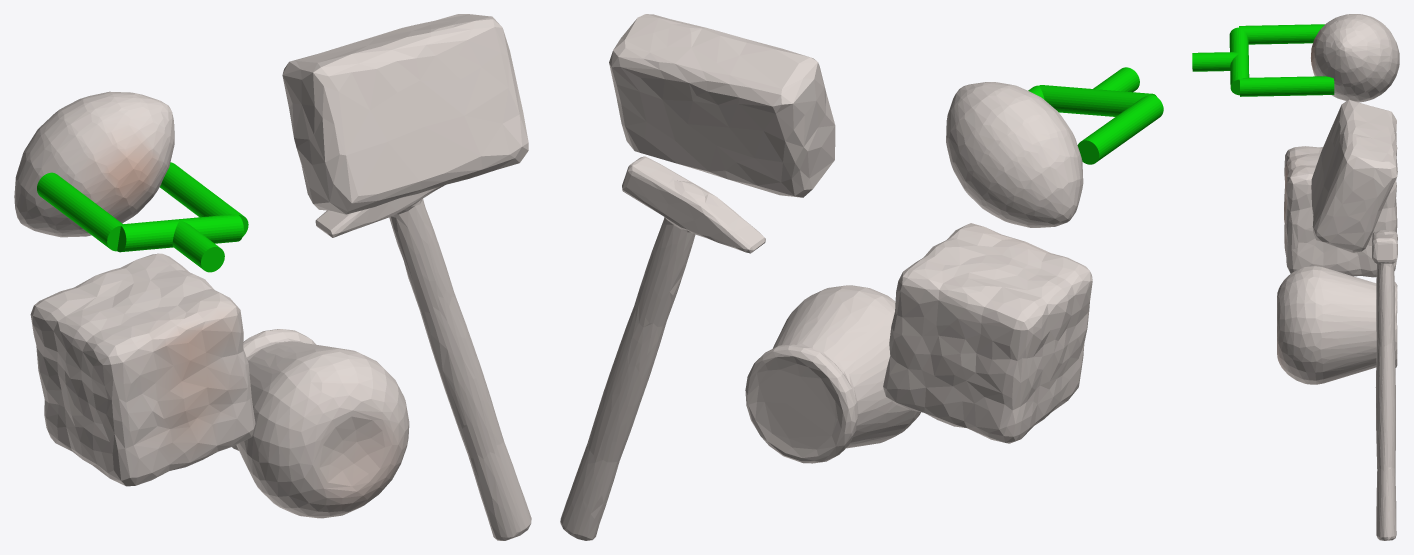
The model's file is round_000_trial_000.obj.
3 renders of one model, left to right at view 1: azimuth 30°, elevation 25°; view 2: azimuth 150°, elevation 25°; view 3: azimuth 270°, elevation 25°, orthographic. The views are drawn at different scales.
Parts seen in each view (by area): view 1: geometry_0, geometry_1; view 2: geometry_0, geometry_1; view 3: geometry_0, geometry_1.
Boxes of the visible parts, <box> form: geometry_0: <box>14,14,531,540</box>; geometry_1: <box>37,162,248,272</box>; geometry_0: <box>560,14,1092,540</box>; geometry_1: <box>1028,67,1163,164</box>; geometry_0: <box>1277,14,1399,540</box>; geometry_1: <box>1192,24,1334,96</box>.
Size of the model in its own units: 0.2216 by 0.2236 by 0.1101.
